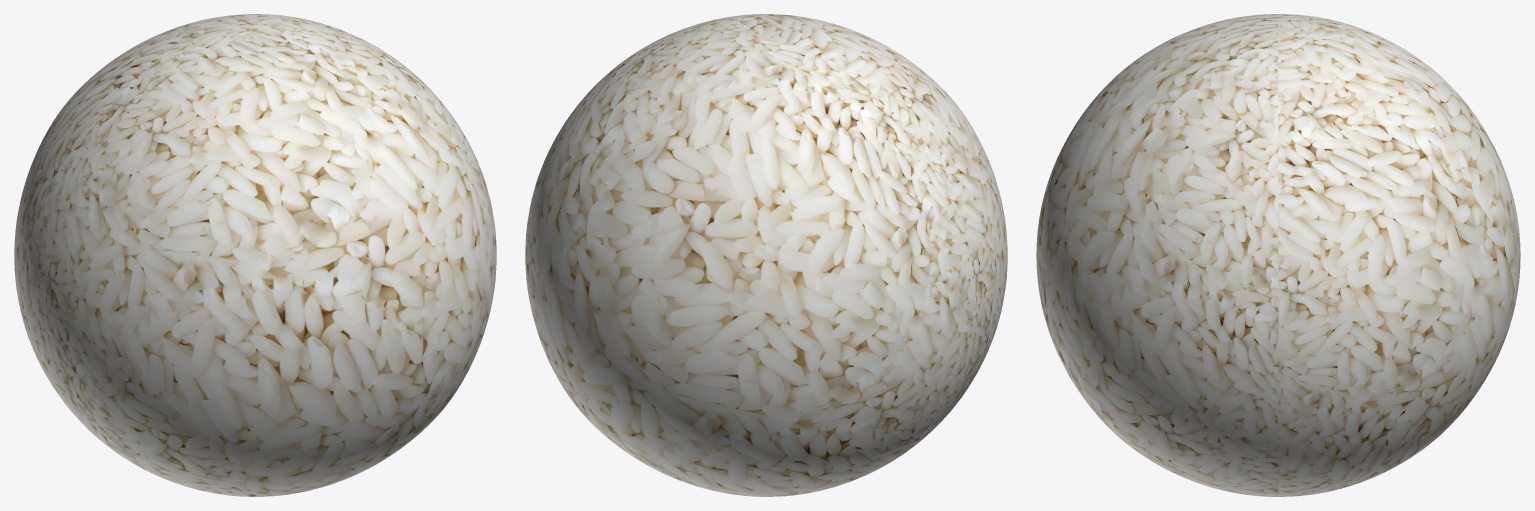
Rendered from ArrozHervido.fbx.
3 views of the same model, side by side, from view 1: azimuth 30°, elevation 25°; view 2: azimuth 150°, elevation 25°; view 3: azimuth 270°, elevation 25° (orthographic).
Parts seen in each view (by area): view 1: sphere; view 2: sphere; view 3: sphere.
Boxes of the visible parts, box(x1,y1,x2,y2) form: sphere: box(14, 14, 496, 496); sphere: box(525, 14, 1007, 496); sphere: box(1036, 14, 1520, 496).
Bounding box in the file's own units: 12.3 × 12.3 × 12.3.
1 material, 1 textured.
